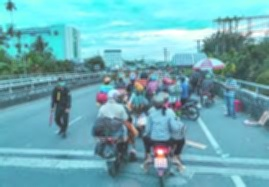Bien-so: (156, 160, 169, 172)
